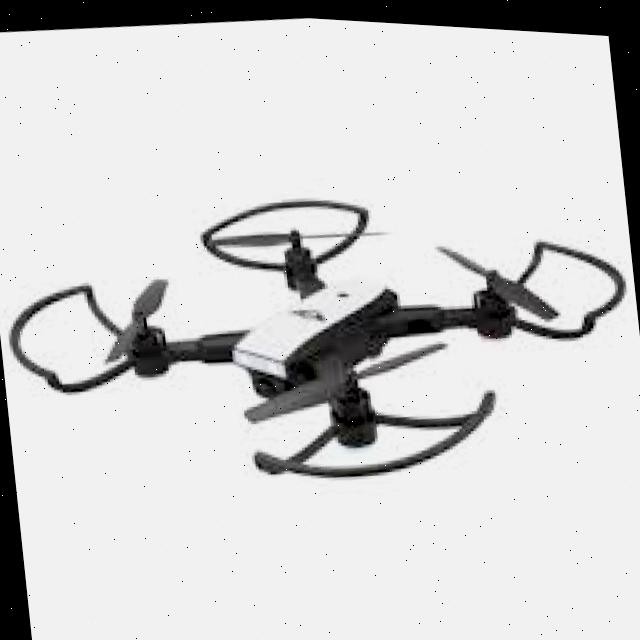drone: (0, 123, 640, 549)
